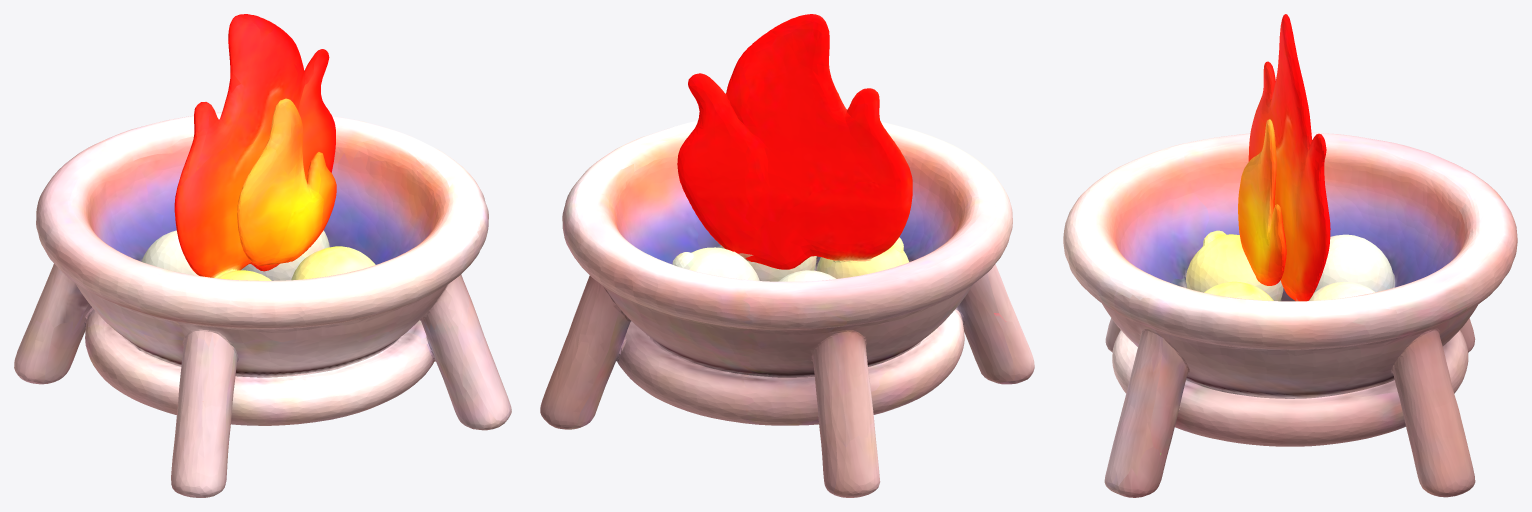
Rendered from fire_pit.glb.
3 renders of one model, left to right at view 1: azimuth 30°, elevation 25°; view 2: azimuth 150°, elevation 25°; view 3: azimuth 270°, elevation 25°, orthographic.
Visible parts, largest first — view 1: tripo_mesh_413578fd-e24b-4ddb-af94-aebac90b6e32; view 2: tripo_mesh_413578fd-e24b-4ddb-af94-aebac90b6e32; view 3: tripo_mesh_413578fd-e24b-4ddb-af94-aebac90b6e32.
Boxes of the visible parts, x1,y1,x2,y2 form: tripo_mesh_413578fd-e24b-4ddb-af94-aebac90b6e32: [14, 14, 511, 497]; tripo_mesh_413578fd-e24b-4ddb-af94-aebac90b6e32: [540, 14, 1034, 497]; tripo_mesh_413578fd-e24b-4ddb-af94-aebac90b6e32: [1063, 14, 1517, 497].
Size of the model in its own units: 1.04 by 1 by 1.04.
Materials: 1 (1 with a texture image).
